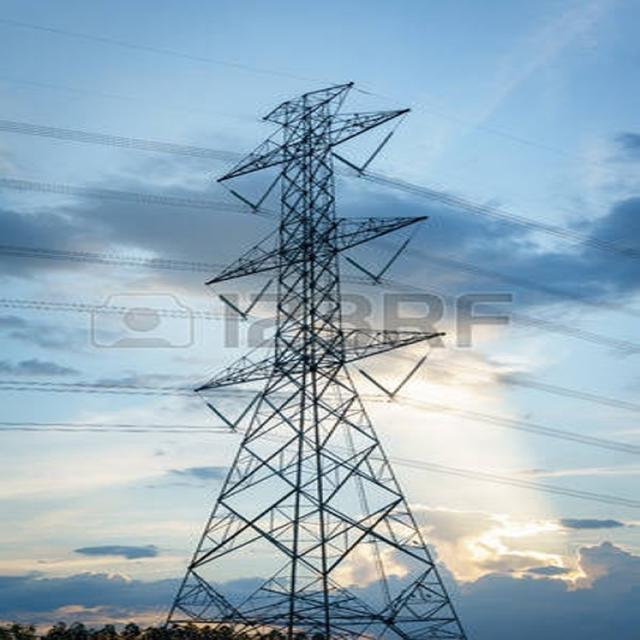non-critical vegetation: (178, 76, 478, 630)
